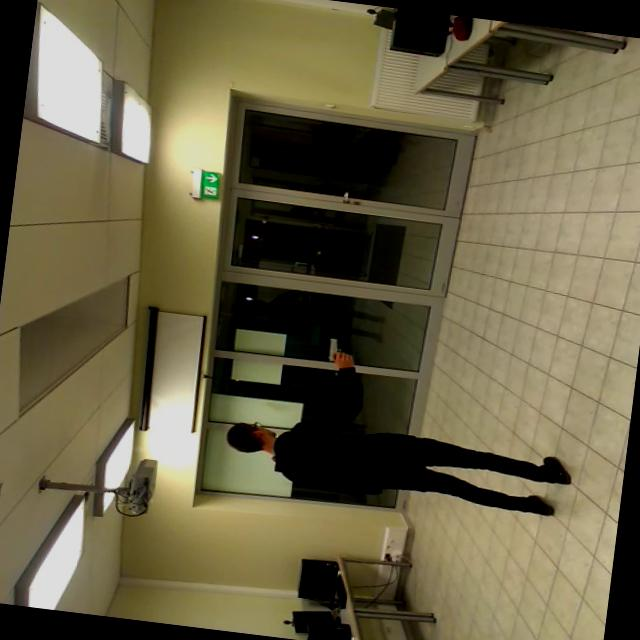handgun: (324, 333, 354, 363)
